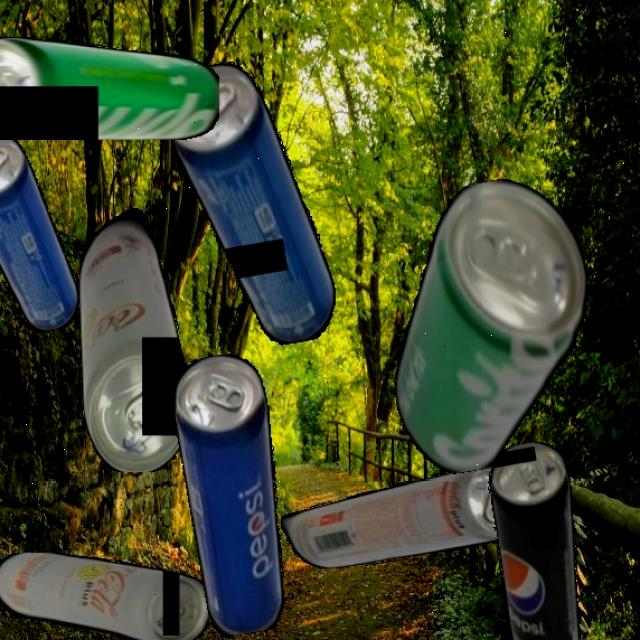debris: (362, 168, 616, 481), (161, 51, 342, 357), (166, 349, 306, 639), (78, 200, 190, 472), (280, 466, 527, 568), (479, 437, 603, 640), (0, 36, 219, 140), (0, 552, 209, 640), (0, 126, 84, 342)
